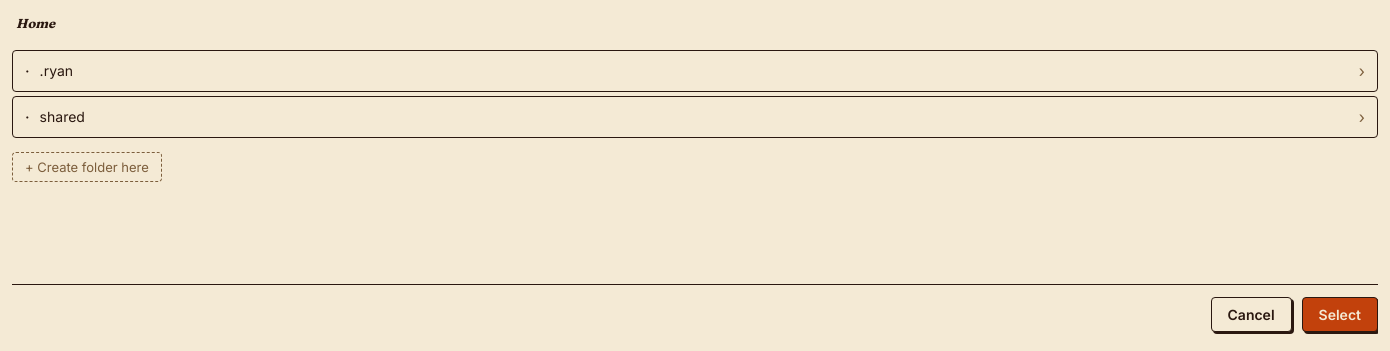
FolderPickerModal › breadcrumb: tapping Home returns to root level
Click the text ".ryan": (56,70) [40, 62, 73, 79]
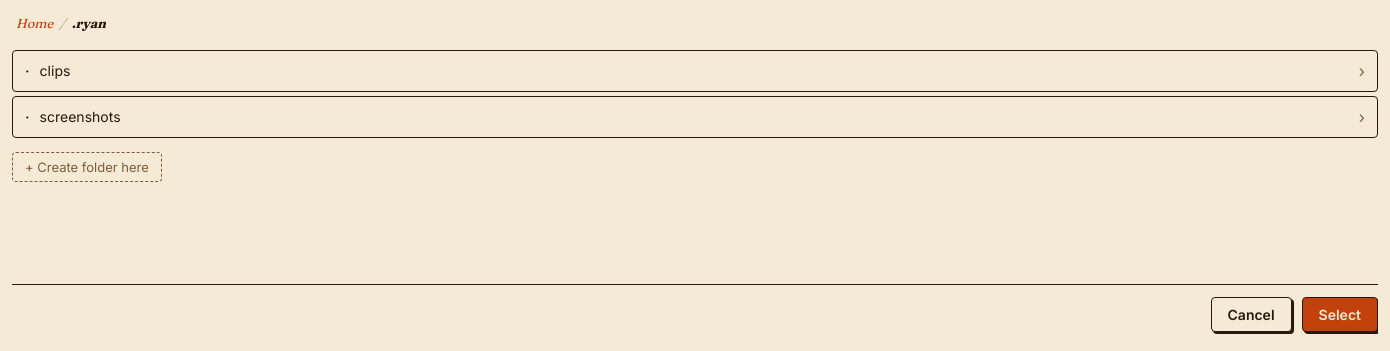
Click the button "Home": (35,24) [12, 12, 57, 36]
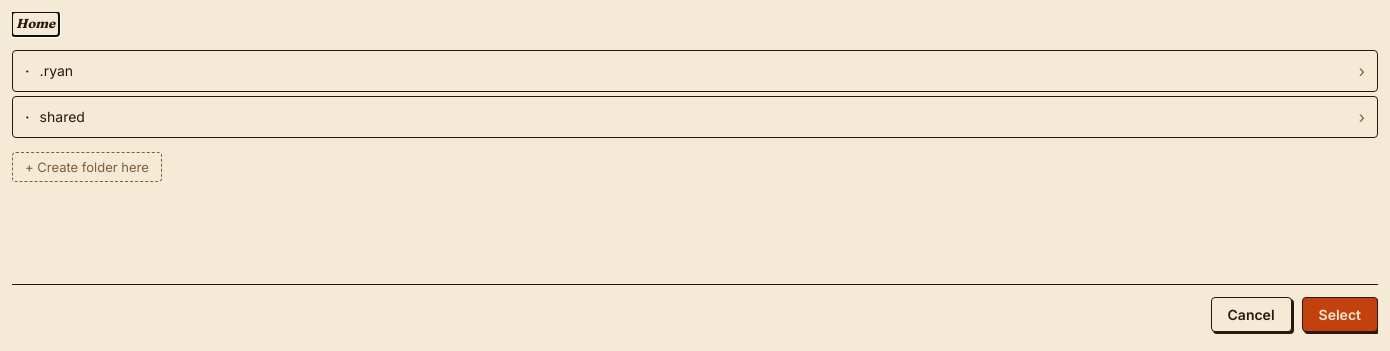
Check: the text "shared" is shown, box [40, 108, 85, 125]
